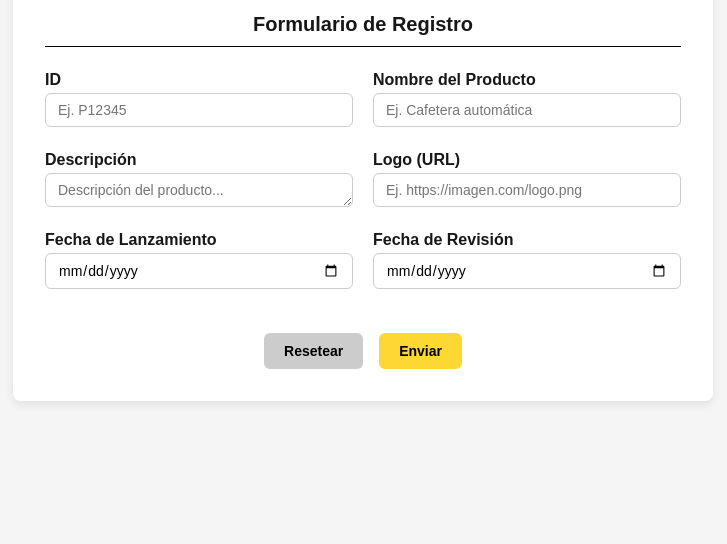
it: ProductForm › muestra error si fecha de revisión no es un año después
Type "2025-07-30" into the date field labelled "Fecha de Lanzamiento" at (199, 271), box [45,253,353,289]
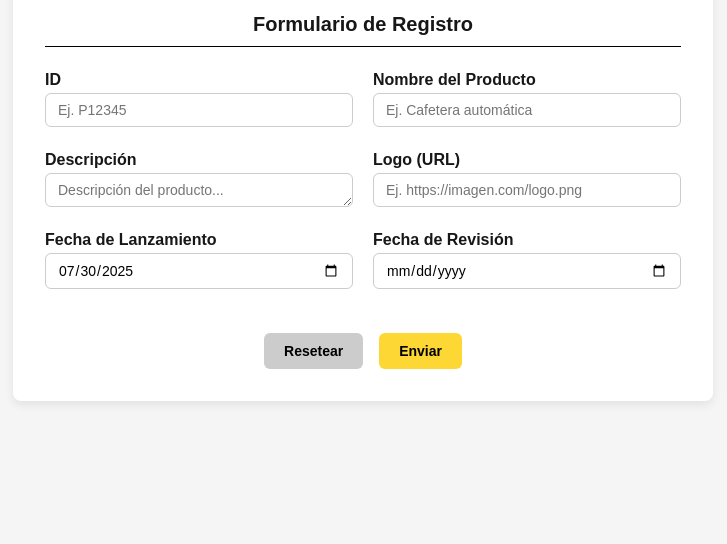
Type "2025-08-30" into the date field labelled "Fecha de Revisión" at (527, 271), box [373,253,681,289]
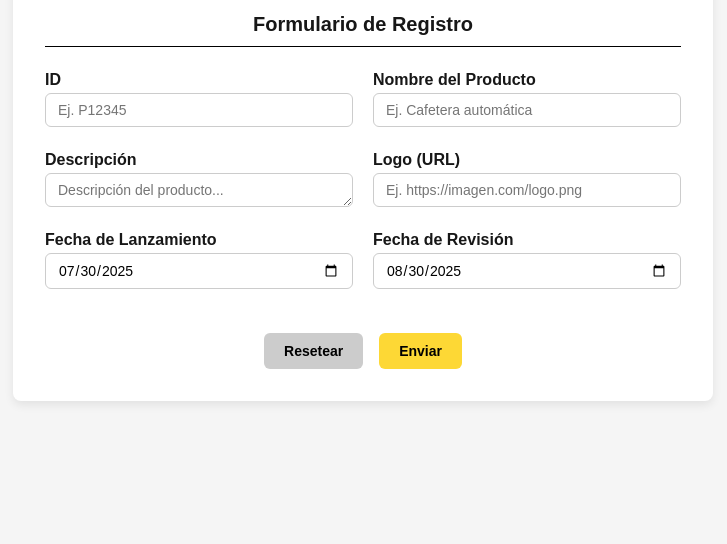
Click the button "Enviar" at (421, 351), box [379,333,462,369]
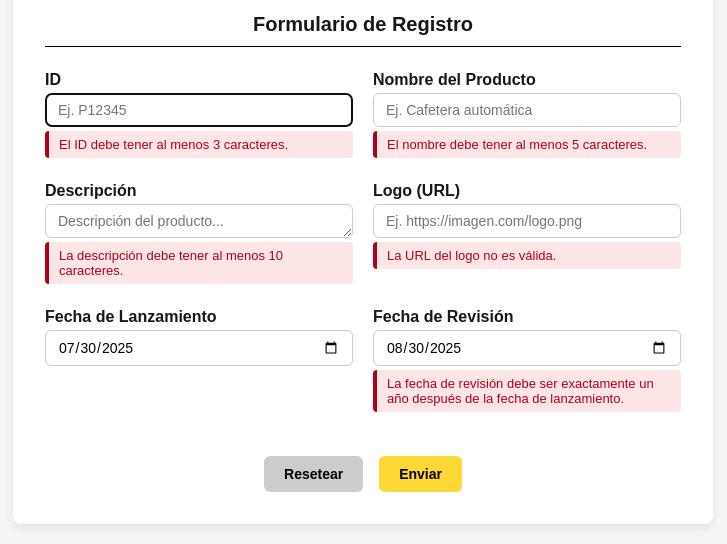
Now the text "La fecha de revisión debe ser exactamente un año después" is shown, box [387,376,654,406]
